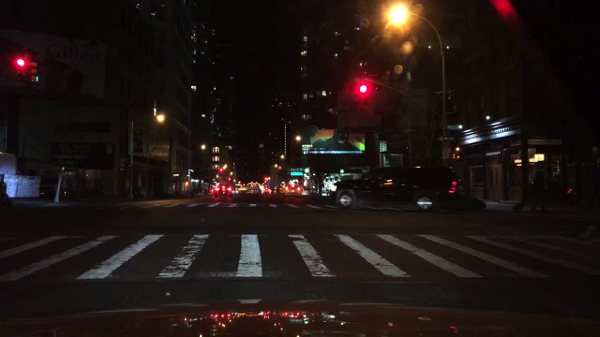car: (333, 164, 468, 214), (564, 184, 599, 206), (213, 183, 234, 198), (283, 184, 303, 197), (277, 188, 286, 194)
person: (527, 169, 550, 215)
traffic light: (16, 57, 29, 81), (31, 60, 42, 85), (359, 81, 367, 96), (277, 163, 283, 173), (220, 165, 224, 173)
traffic sign: (437, 136, 455, 142), (133, 128, 143, 138), (446, 125, 459, 131)
